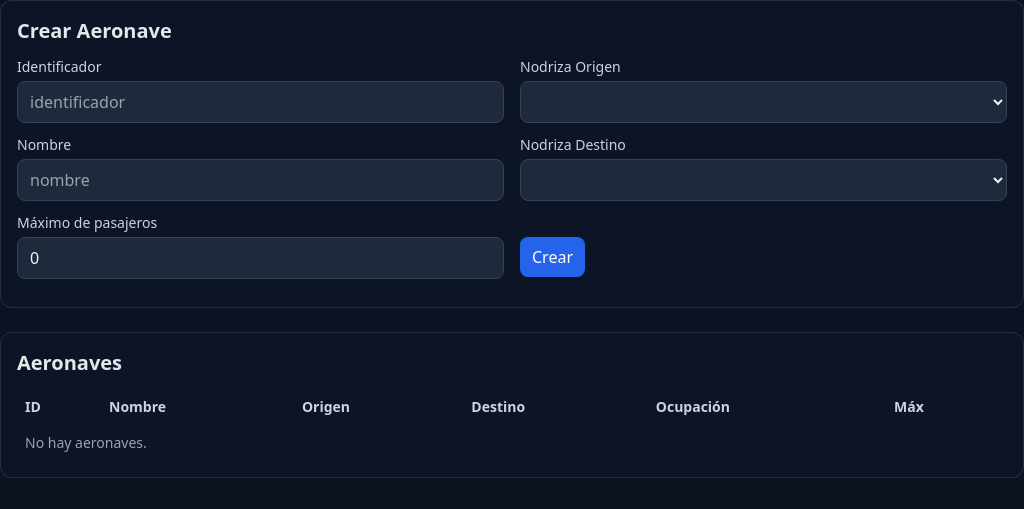
Test case: AeronavesPage – ramas extra › POST 422 muestra el texto de error devuelto
This screenshot has width=1024, height=509.
Type "A1" into the field with placeholder "identificador" at {"x": 260, "y": 102}, box x1=17 y1=81 x2=504 y2=123
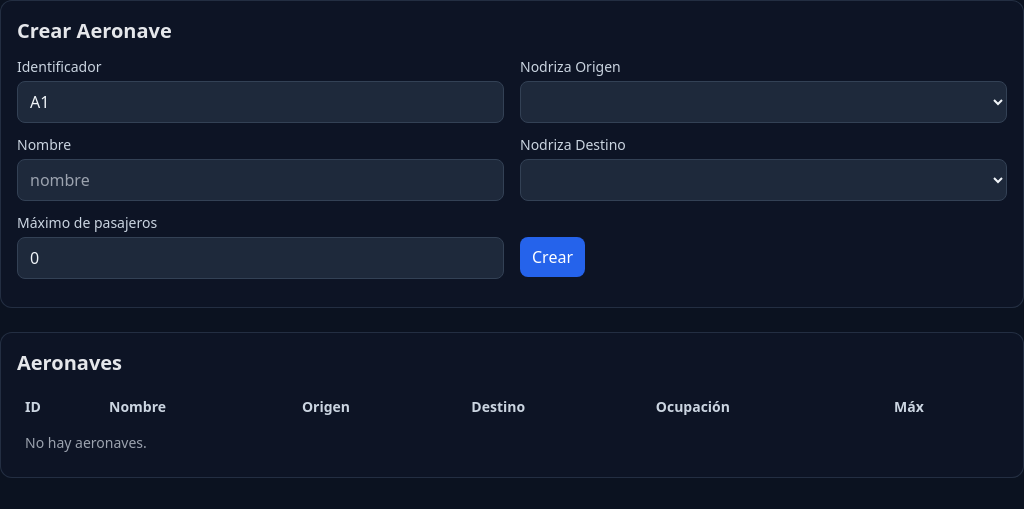
Type "Uno" into the field with placeholder "nombre" at {"x": 260, "y": 180}, box x1=17 y1=159 x2=504 y2=201
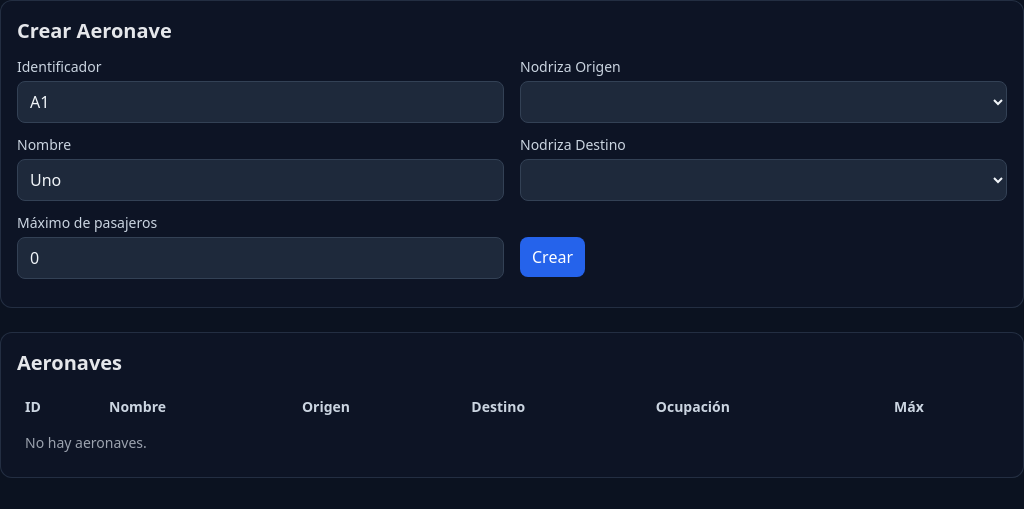
Replace the text in the number field with placeholder "máximo de pasajeros" with "3" at {"x": 260, "y": 258}, box x1=17 y1=237 x2=504 y2=279
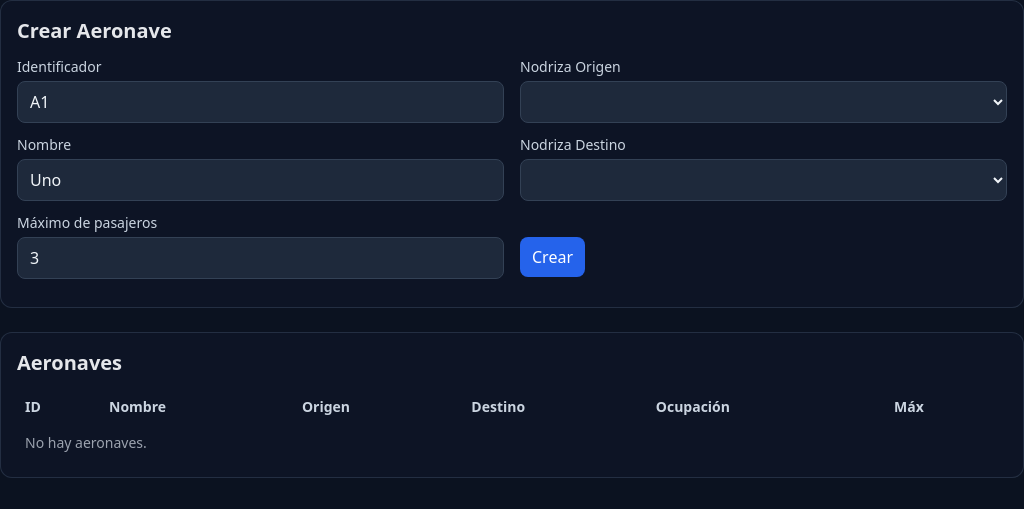
Click the button "Crear" at {"x": 552, "y": 257}, box x1=520 y1=237 x2=585 y2=277
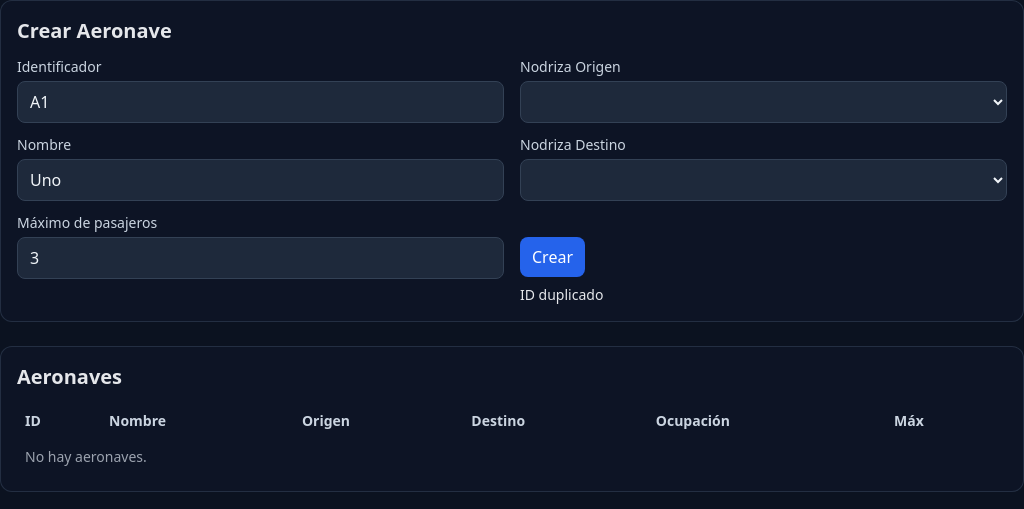
Now the text "ID duplicado" is shown, box x1=520 y1=285 x2=603 y2=304
